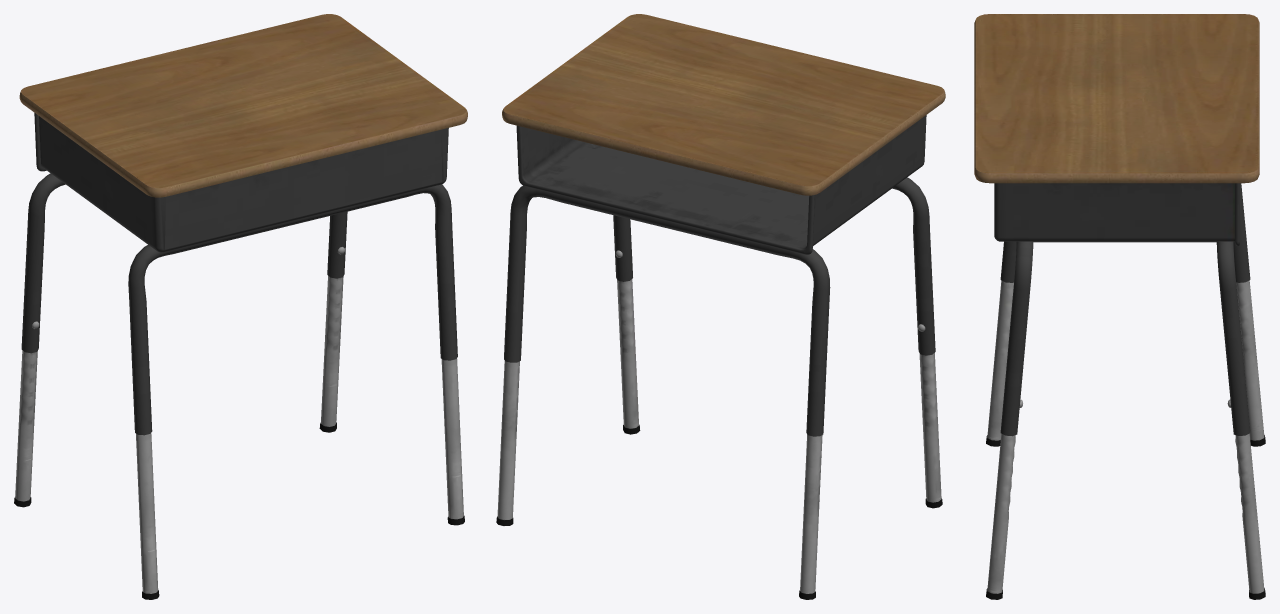
Rendered from SchoolDesk_01.glb.
3 renders of one model, left to right at view 1: azimuth 30°, elevation 25°; view 2: azimuth 150°, elevation 25°; view 3: azimuth 270°, elevation 25°, orthographic. The views are drawn at different scales.
Visible parts, largest first — view 1: SchoolDesk_01; view 2: SchoolDesk_01; view 3: SchoolDesk_01.
Part boxes in pixels (bbox=[...]): SchoolDesk_01: bbox=[14, 14, 467, 599]; SchoolDesk_01: bbox=[496, 14, 945, 599]; SchoolDesk_01: bbox=[974, 14, 1265, 599].
Size of the model in its own units: 0.7118 by 0.8826 by 0.546.
1 material, 1 textured.
